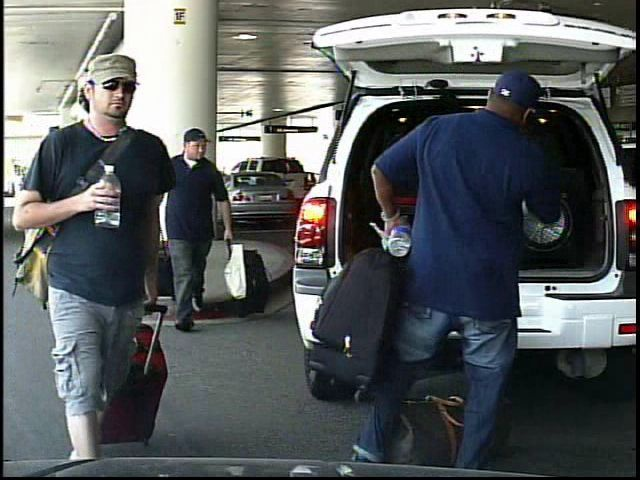person: (343, 64, 560, 469), (18, 51, 189, 478), (165, 117, 242, 326), (12, 168, 22, 199)
